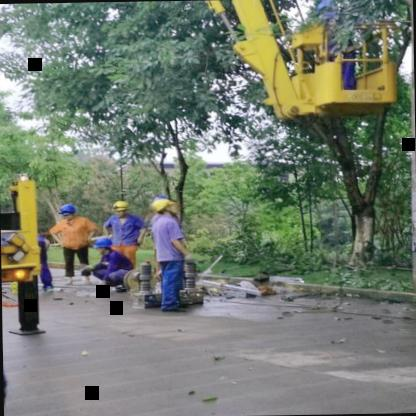helmet: (148, 196, 182, 218), (56, 200, 83, 225), (108, 199, 136, 220), (91, 236, 115, 257)
